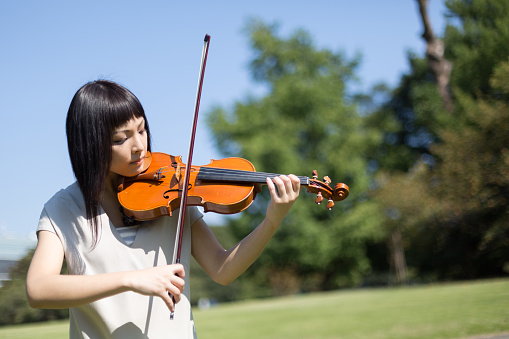em pe: (13, 82, 219, 339)
